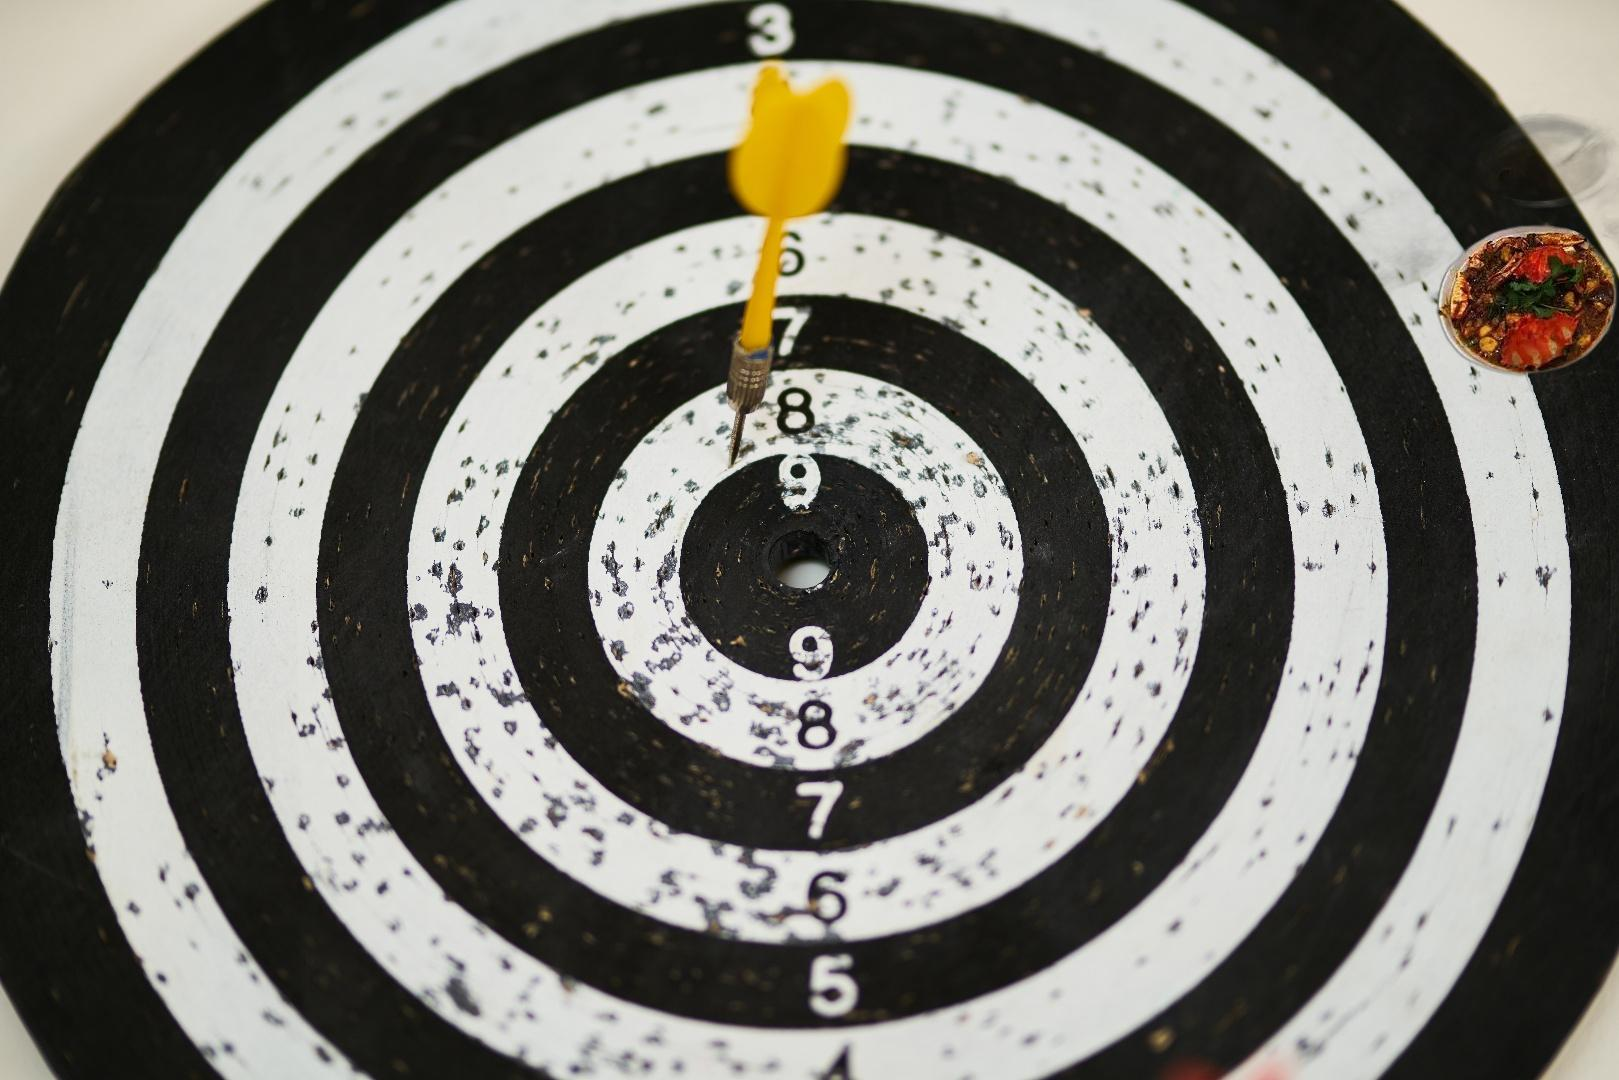biological: (1273, 10, 1619, 407)
